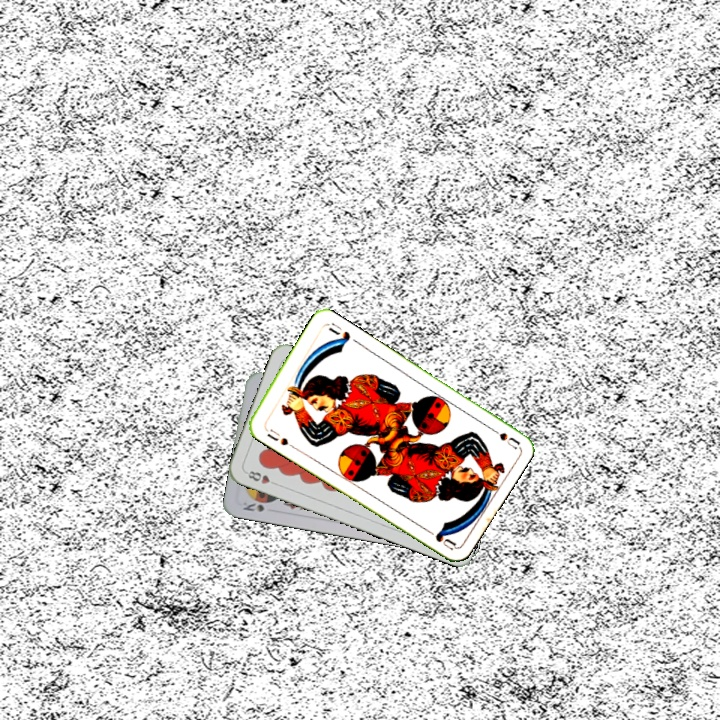H8: (242, 466, 281, 488)
SK: (239, 498, 267, 515)
SU: (484, 422, 521, 451), (260, 421, 291, 448)
